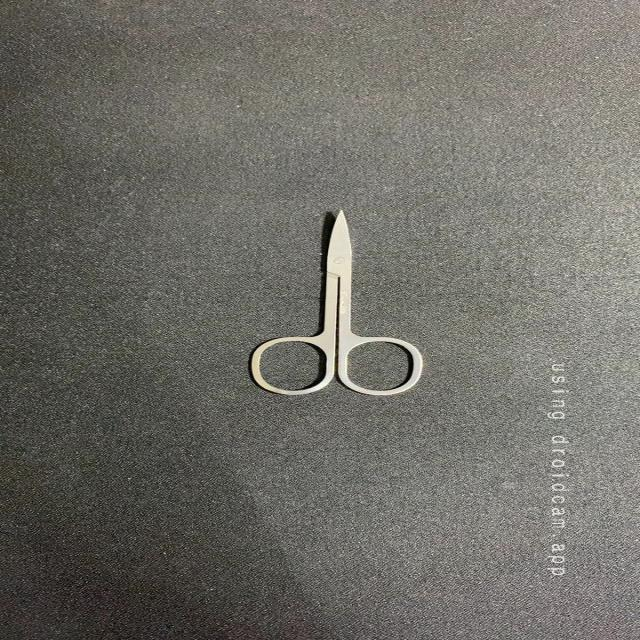scissor: (244, 206, 426, 400)
